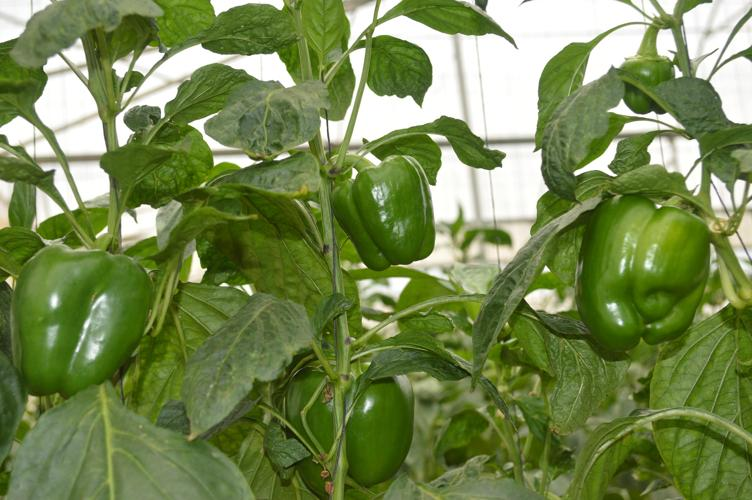BellPepper: (579, 194, 702, 359), (12, 242, 151, 387), (282, 373, 420, 488), (332, 156, 432, 268)
